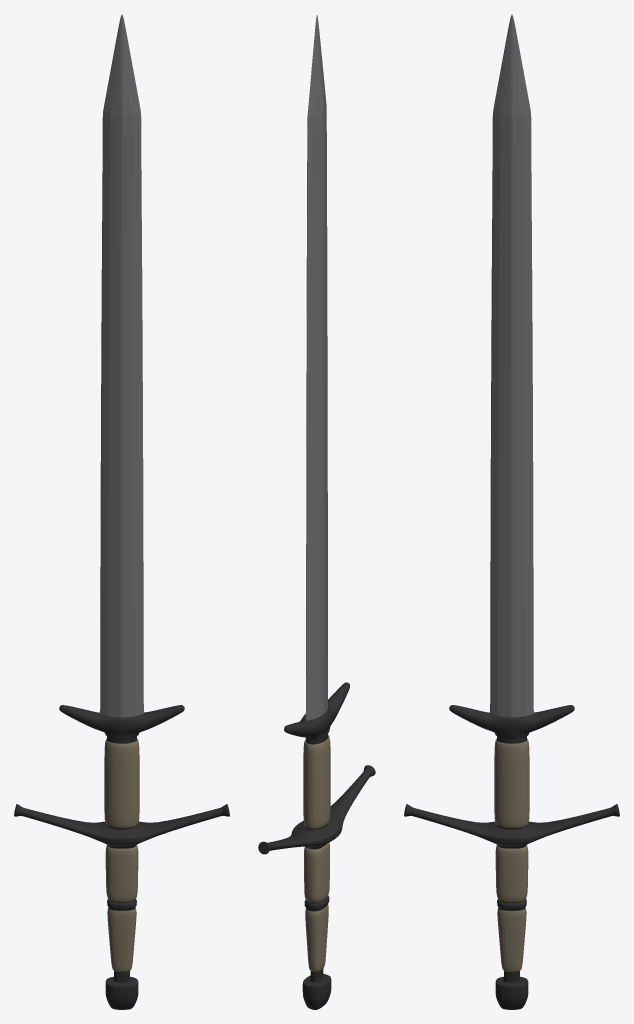
Rendered from Zweilh.fbx.
3 views of the same model, side by side, from view 1: azimuth 90°, elevation 25°; view 2: azimuth 150°, elevation 25°; view 3: azimuth 270°, elevation 25° (orthographic).
Parts seen in each view (by area): view 1: ZweihänderBlade, ZweihänderHandle; view 2: ZweihänderBlade, ZweihänderHandle; view 3: ZweihänderBlade, ZweihänderHandle.
Boxes of the visible parts, box(x1,y1,x2,y2) form: ZweihänderBlade: box(100, 14, 143, 717); ZweihänderHandle: box(14, 705, 229, 1009); ZweihänderBlade: box(306, 15, 327, 720); ZweihänderHandle: box(258, 682, 375, 1009); ZweihänderBlade: box(490, 14, 533, 717); ZweihänderHandle: box(404, 705, 619, 1009).
Bounding box in the file's own units: 0.6745 × 17.02 × 3.34.
